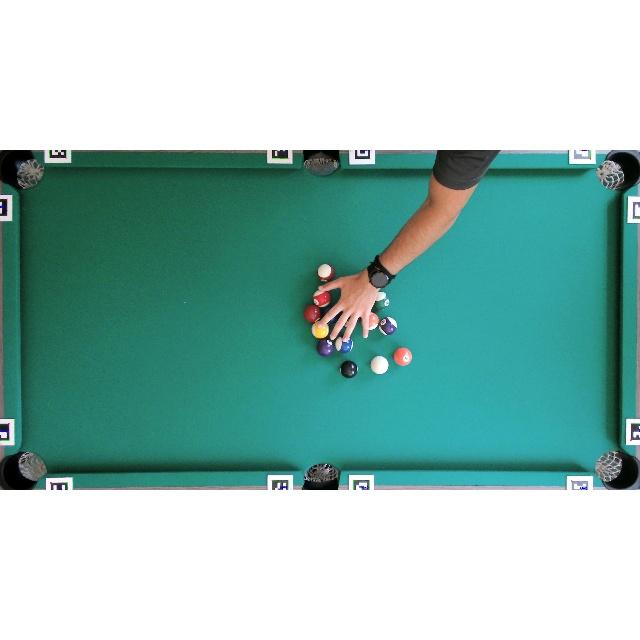cue ball: (370, 356, 389, 374)
other: (316, 338, 335, 357), (394, 348, 412, 367), (312, 290, 330, 308), (379, 317, 397, 335), (304, 304, 322, 322), (335, 336, 354, 353), (312, 321, 329, 339), (340, 361, 358, 378), (374, 292, 391, 310), (318, 263, 334, 282)
